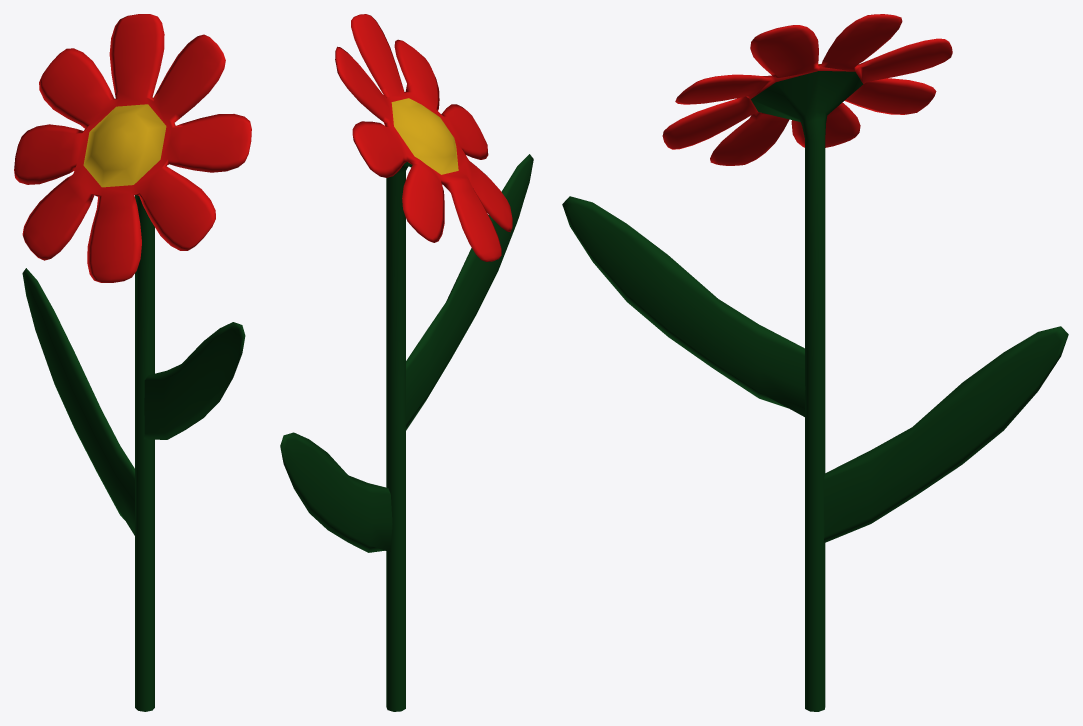
File: flower.obj
3 renders of one model, left to right at view 1: azimuth 30°, elevation 25°; view 2: azimuth 150°, elevation 25°; view 3: azimuth 270°, elevation 25°, orthographic. The views are drawn at different scales.
Visible parts, largest first — view 1: flower; view 2: flower; view 3: flower.
Boxes of the visible parts, x1,y1,x2,y2 form: flower: [14, 14, 251, 711]; flower: [280, 14, 533, 711]; flower: [562, 14, 1068, 711].
Size of the model in its own units: 0.5136 by 2.02 by 1.31.
